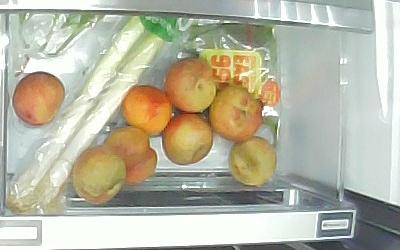prune: (71, 144, 125, 204), (104, 127, 159, 185), (210, 86, 263, 142), (13, 69, 65, 126), (165, 58, 216, 112), (162, 113, 214, 165), (122, 85, 173, 136), (229, 137, 276, 185)
